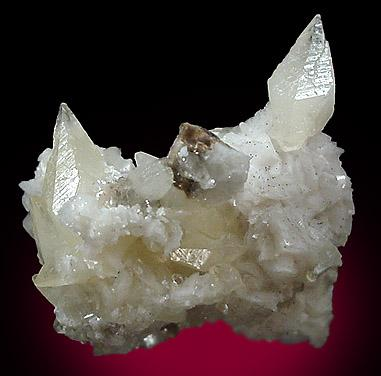calcite: (23, 17, 355, 355)
